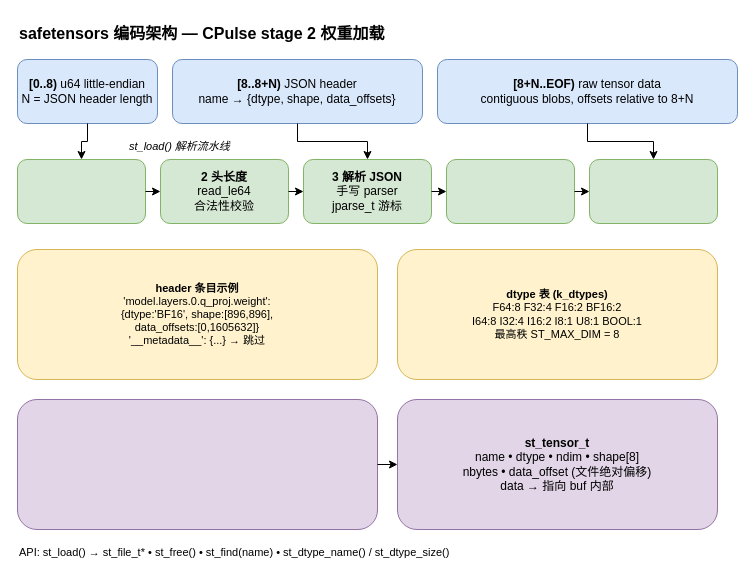
This 755x582 diagram has some shape labels left out. The centre of each missing label's shape, as x and y in pixels:
1 读文件 malloc + fread 整文件 → buf: point 81,191
4 tensor 条目 dtype / shape / data_offsets: point 510,191
5 定址 + 越界检查 data = buf + off: point 653,191
st_file_t buf (整文件) • buf_size header_len = N tensors[] 元数据表 • n_tensors / cap: point 197,464
